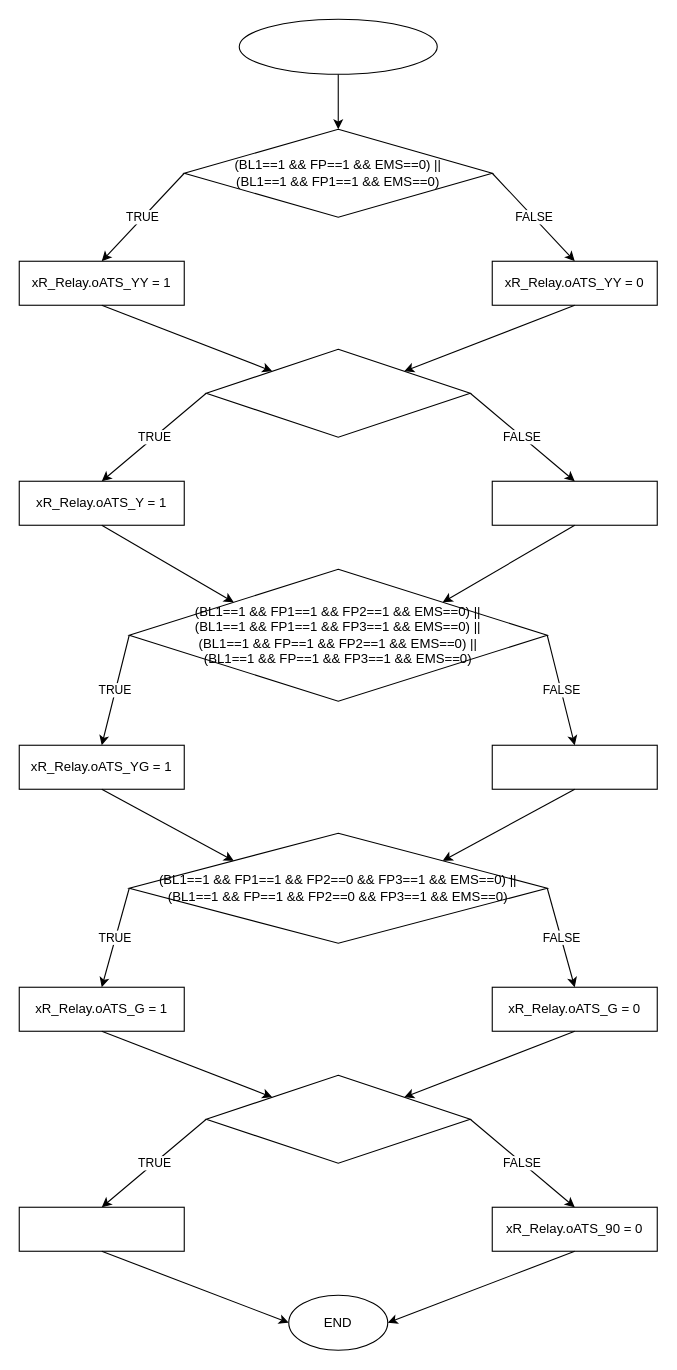
This 677x1370 diagram has some shape labels left out. The centre of each missing label's shape, as x and y in pixels:
BL1==1 && BL2==1 && FP2==0 && FP3==0 && EMS==0: the point at 337,1118
BL1==1 && FP==0 && FP1==1 && EMS==0: the point at 337,392
vDoubleTrack_Logic_ATS: the point at 337,46
xR_Relay.oATS_90 = 1: the point at 101,1228
xR_Relay.oATS_Y = 0: the point at 574,502
xR_Relay.oATS_YG = 0: the point at 574,766
